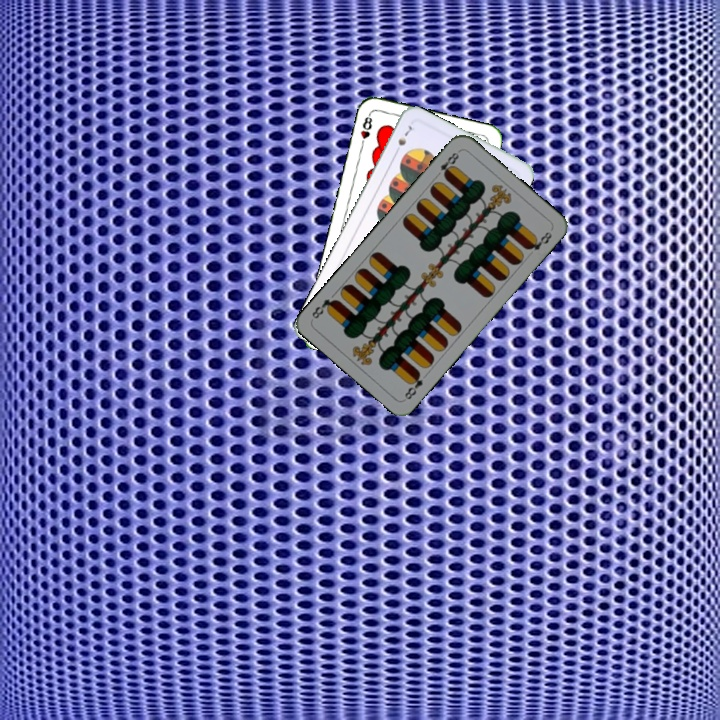E8: (400, 367, 426, 402), (436, 147, 463, 180)
H8: (357, 110, 375, 150)
S7: (390, 122, 415, 157)
